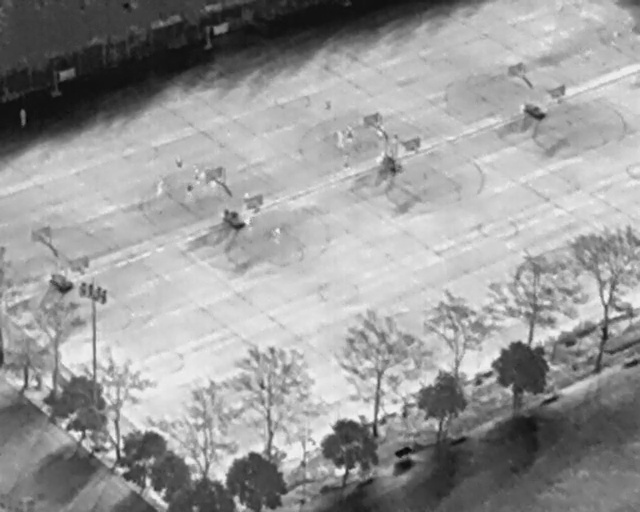Person: (151, 175, 167, 198), (374, 148, 388, 165), (18, 108, 28, 128), (272, 226, 281, 246), (244, 213, 253, 231), (185, 183, 195, 199), (337, 130, 345, 150), (345, 127, 354, 144), (193, 168, 201, 185), (173, 156, 183, 169), (377, 122, 385, 138), (244, 189, 251, 202), (210, 178, 217, 189)
